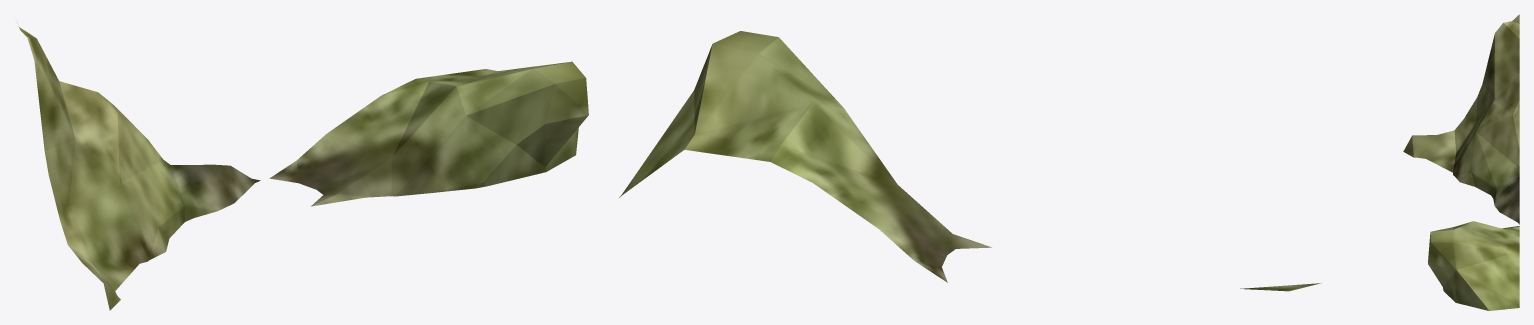
The picture shows the model from 3 angles, left to right: view 1: azimuth 30°, elevation 25°; view 2: azimuth 150°, elevation 25°; view 3: azimuth 270°, elevation 25°; orthographic projection. The views are drawn at different scales.
Bounding box in the file's own units: 1.4 × 0.5658 × 0.4334.
1 material, 1 textured.
